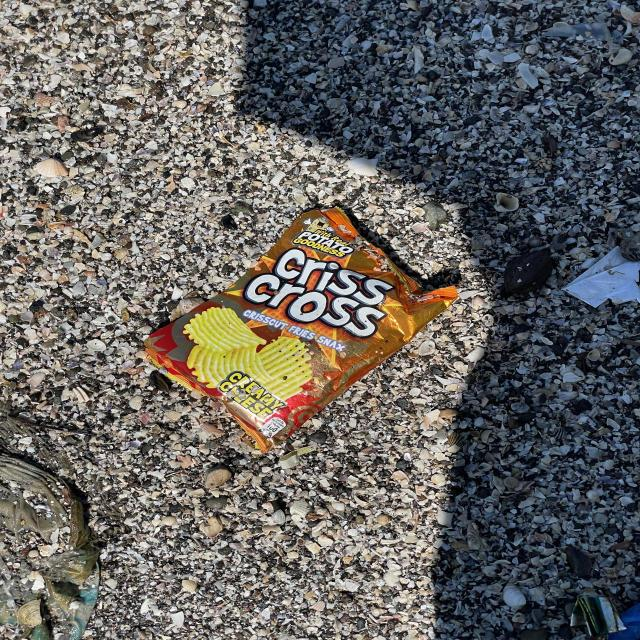litter: (130, 202, 464, 460)
